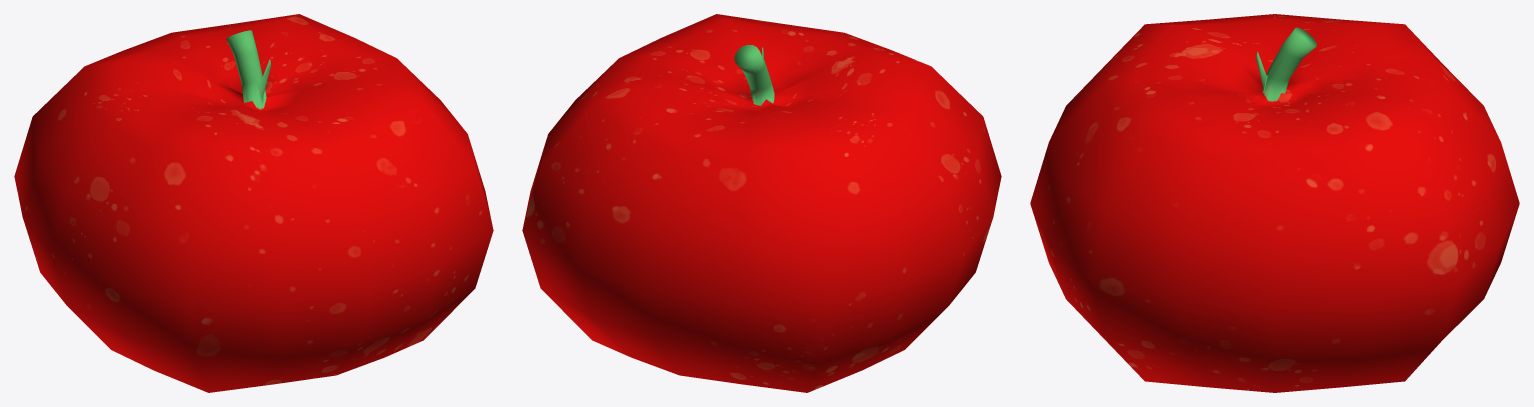
The model's file is Tomato.fbx.
3 views of the same model, side by side, from view 1: azimuth 30°, elevation 25°; view 2: azimuth 150°, elevation 25°; view 3: azimuth 270°, elevation 25° (orthographic). The views are drawn at different scales.
Parts seen in each view (by area): view 1: Tomato; view 2: Tomato; view 3: Tomato.
Part boxes in pixels (x1,y1,x2,y2): Tomato: (14,14,493,392); Tomato: (522,14,1001,392); Tomato: (1030,14,1519,392).
Bounding box in the file's own units: 16.04 × 11.57 × 16.04.
